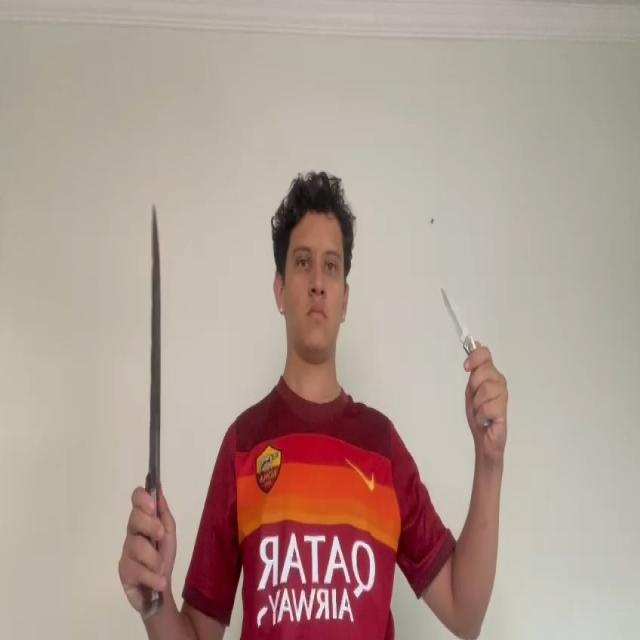knife: (147, 203, 162, 489), (442, 290, 471, 346)
